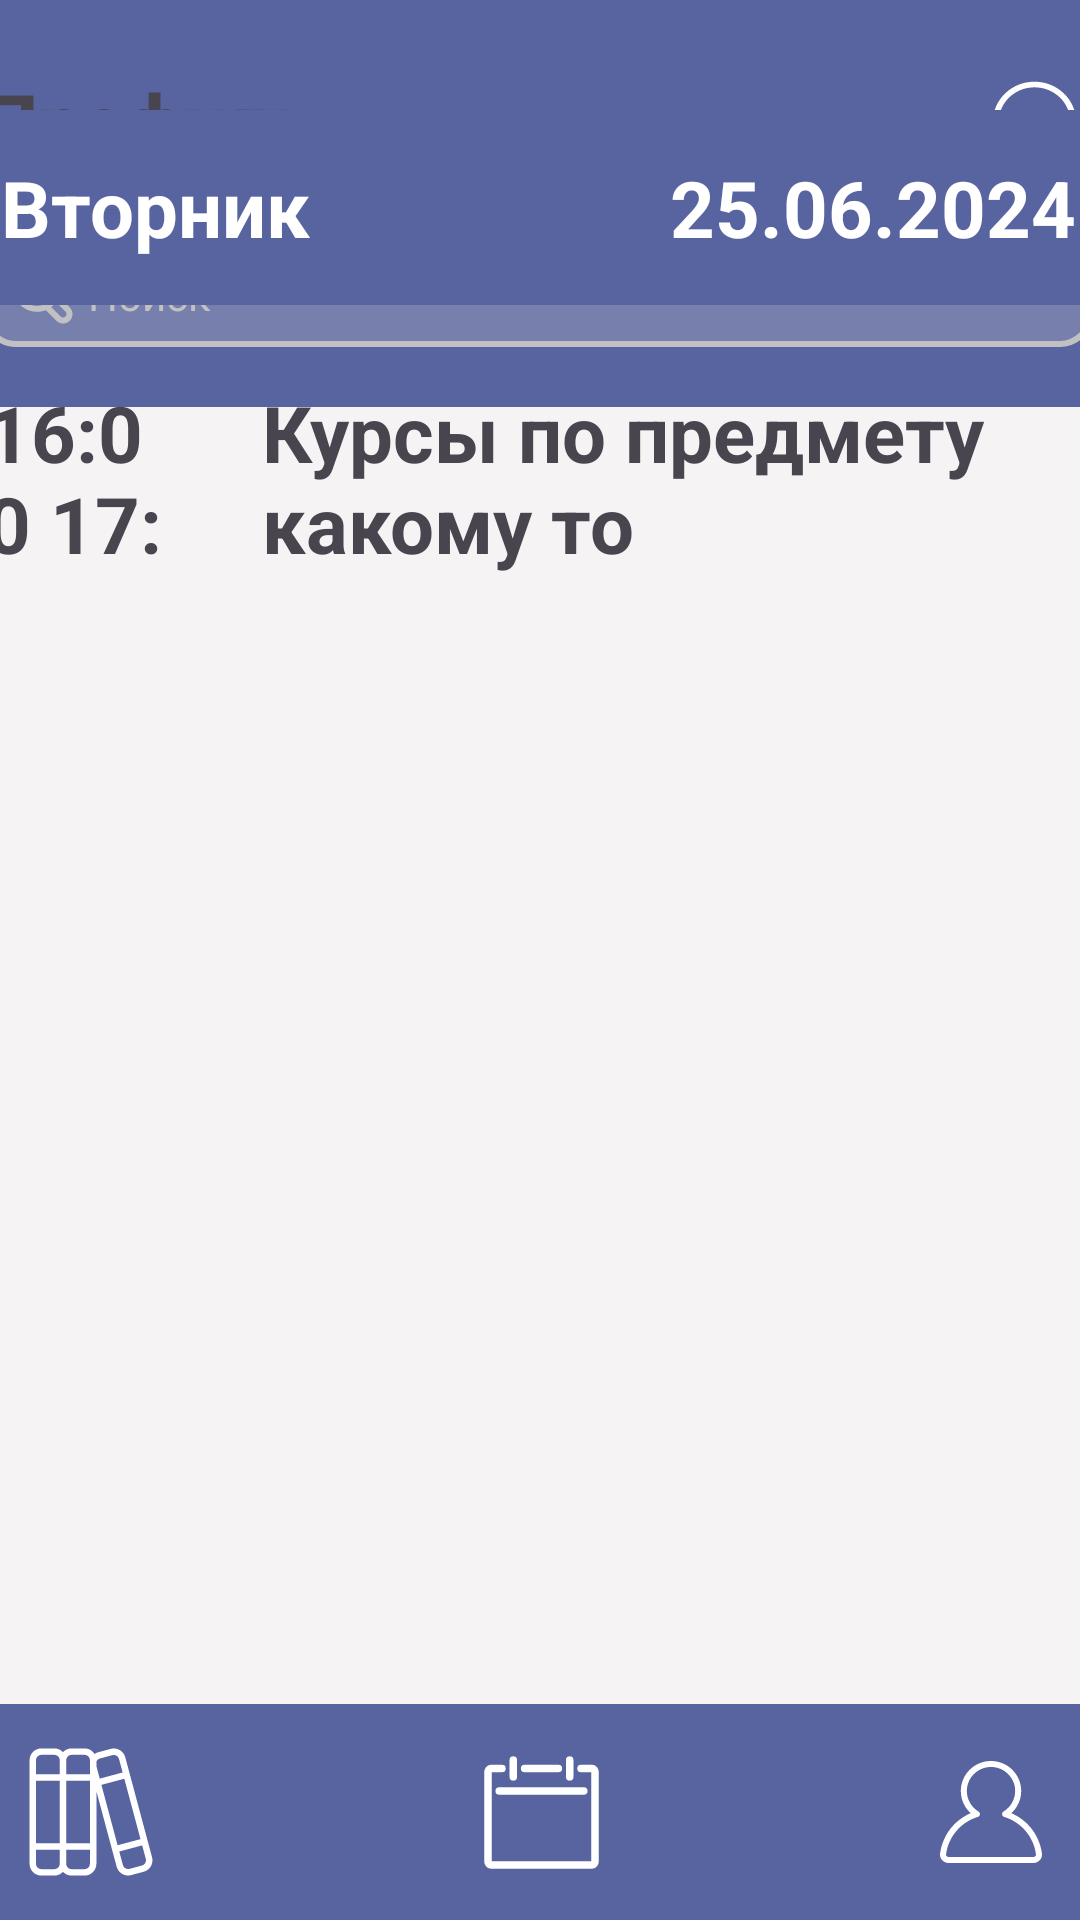

Locate icon controls on the screen. Image size 1080px×1920px, boxes as (x1, y1, x2, y2).
books: (29, 1748, 153, 1876)
calendar: (484, 1756, 599, 1869)
profile: (940, 1761, 1042, 1863)
